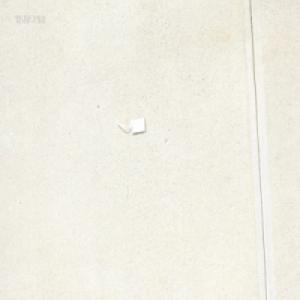LuggageTag: (115, 117, 146, 134)
